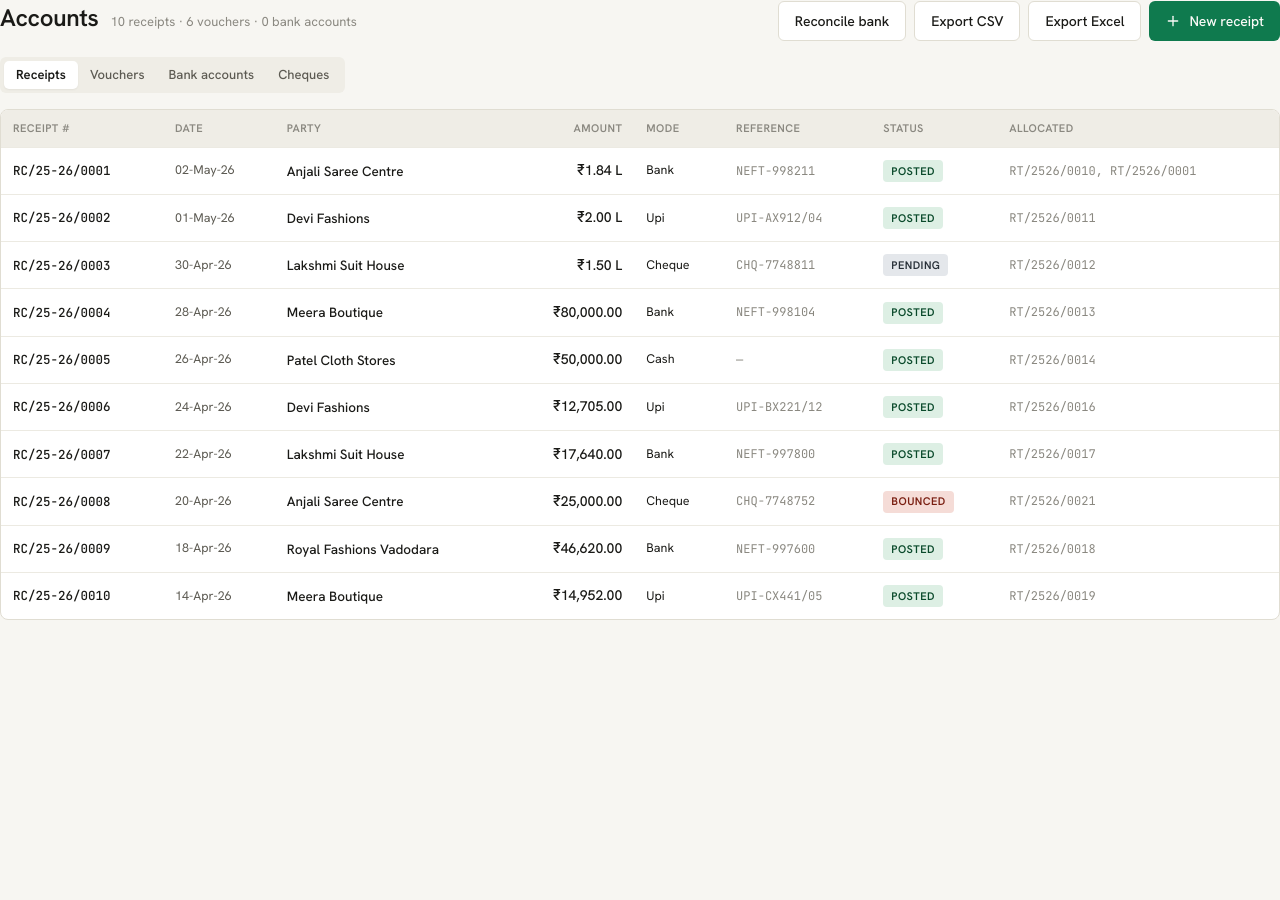
Scenario: AccountingHub › "+ New bank account" opens the bank-account form
The width and height of the screenshot is (1280, 900).
Expected: the text "RC/25-26/0001" is shown, [13,162,110,179]
What coordinates should you click on to do the following:
click the tab "Bank accounts"
I would click on:
 (211, 75)
Its box is [156,61,266,89].
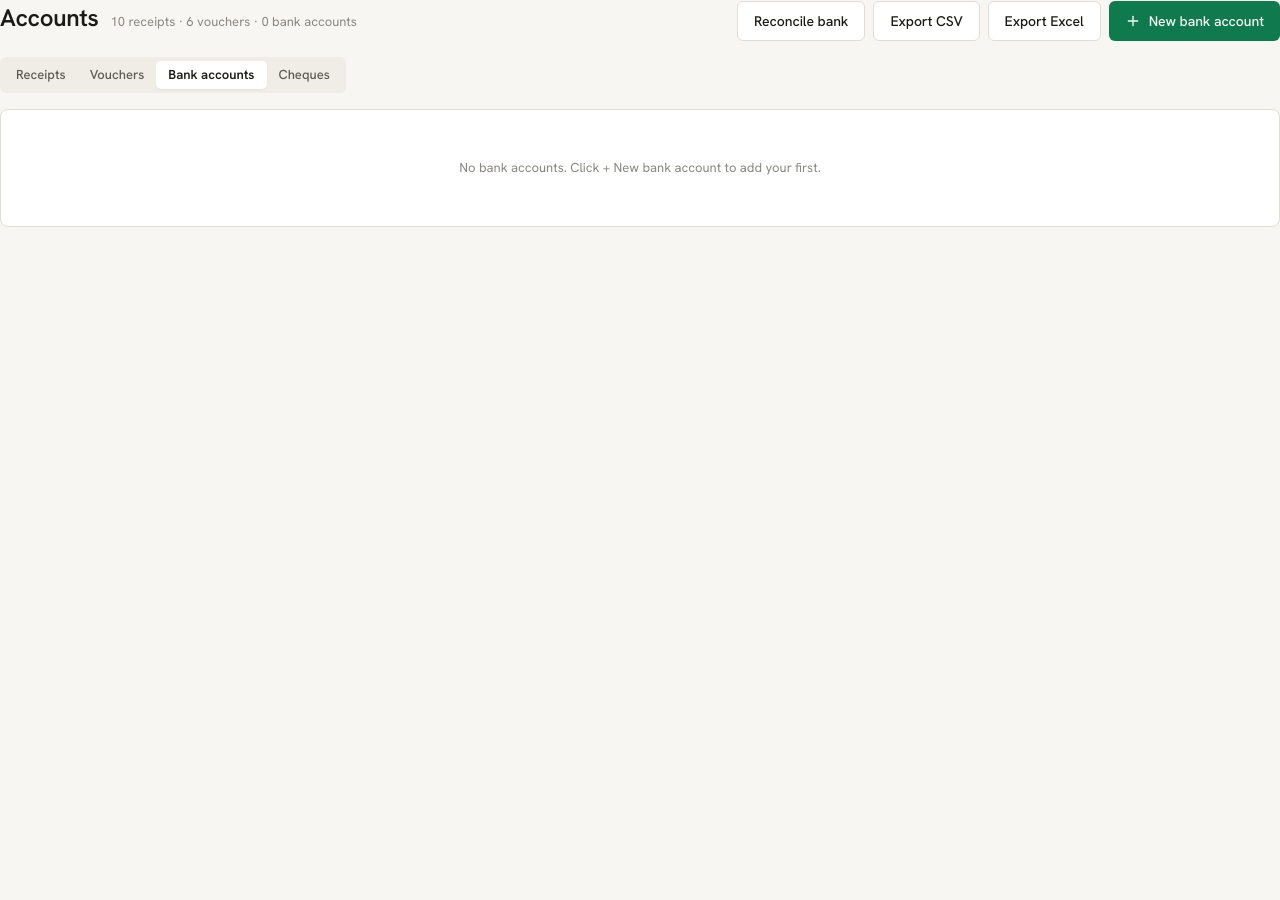
What coordinates should you click on to do the following:
click the button "New bank account"
I would click on:
 (1194, 21)
Its box is [1109,1,1279,41].
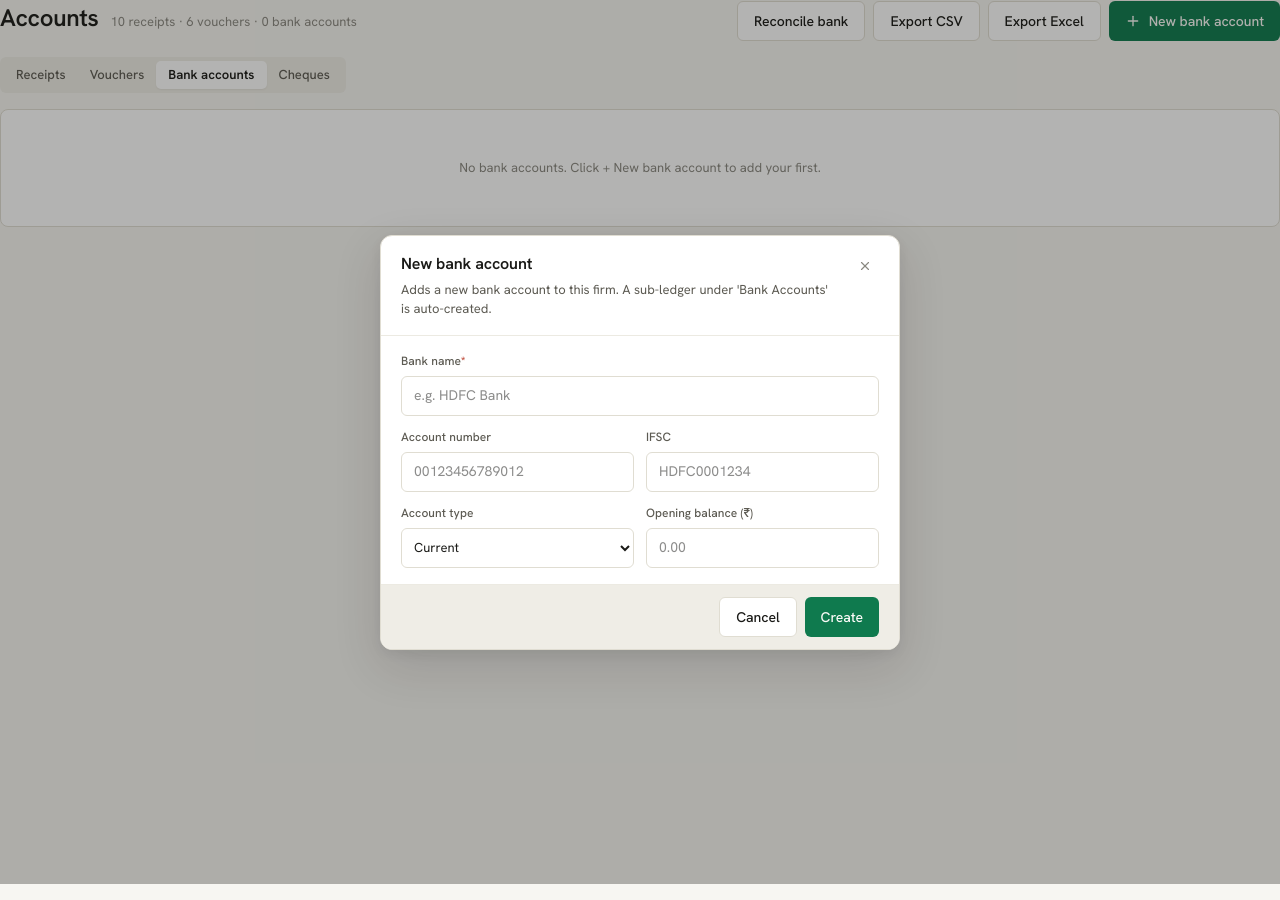
Now the dialog "New bank account" is shown
Now the field labelled "Bank name*" is shown, box [402,385,878,406]
Now the field labelled "Account number" is shown, box [402,461,633,482]
